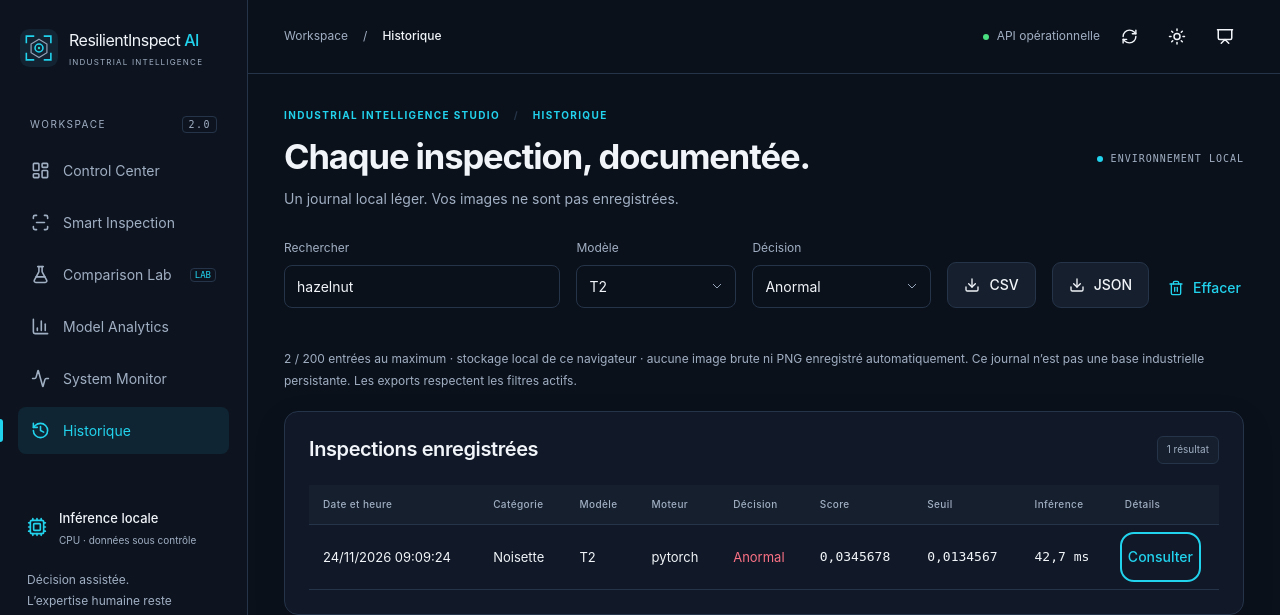
Test: history filters genuine local records, exports only the selection and confirms deletion
Earlier steps of the test are not shown.
What coordinates should you click on to do the following:
click the button "CSV"
I would click on:
 (992, 285)
Its box is [947, 262, 1036, 308].
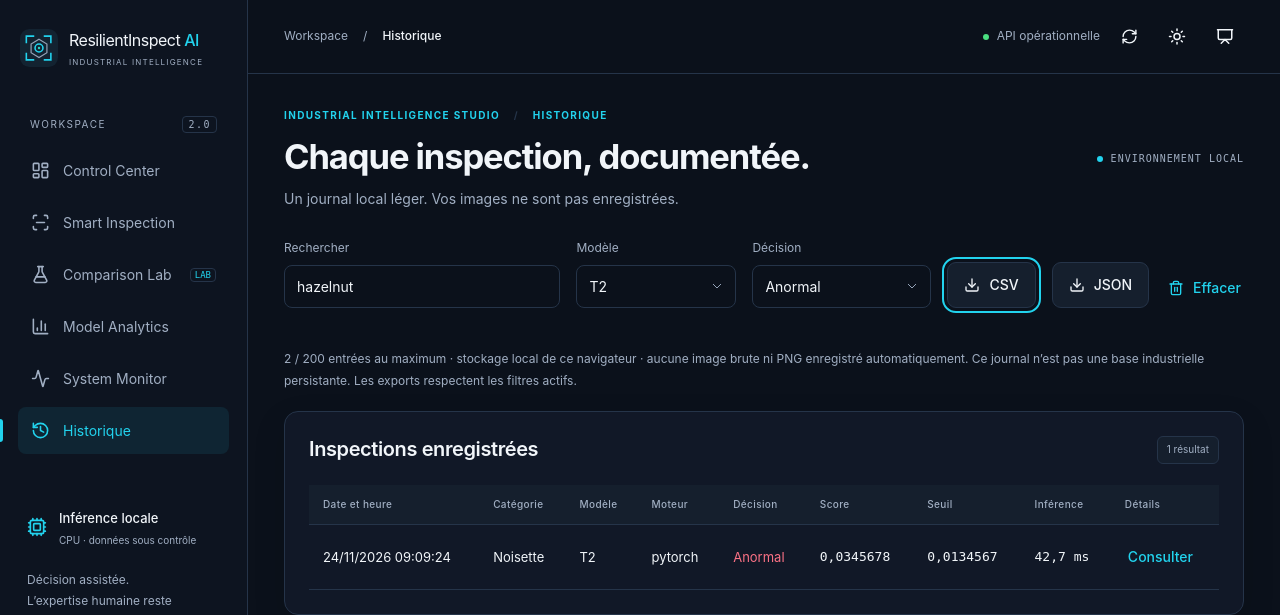
What coordinates should you click on to do the following:
click the button "JSON"
I would click on:
 (1100, 285)
Its box is [1052, 262, 1149, 308].
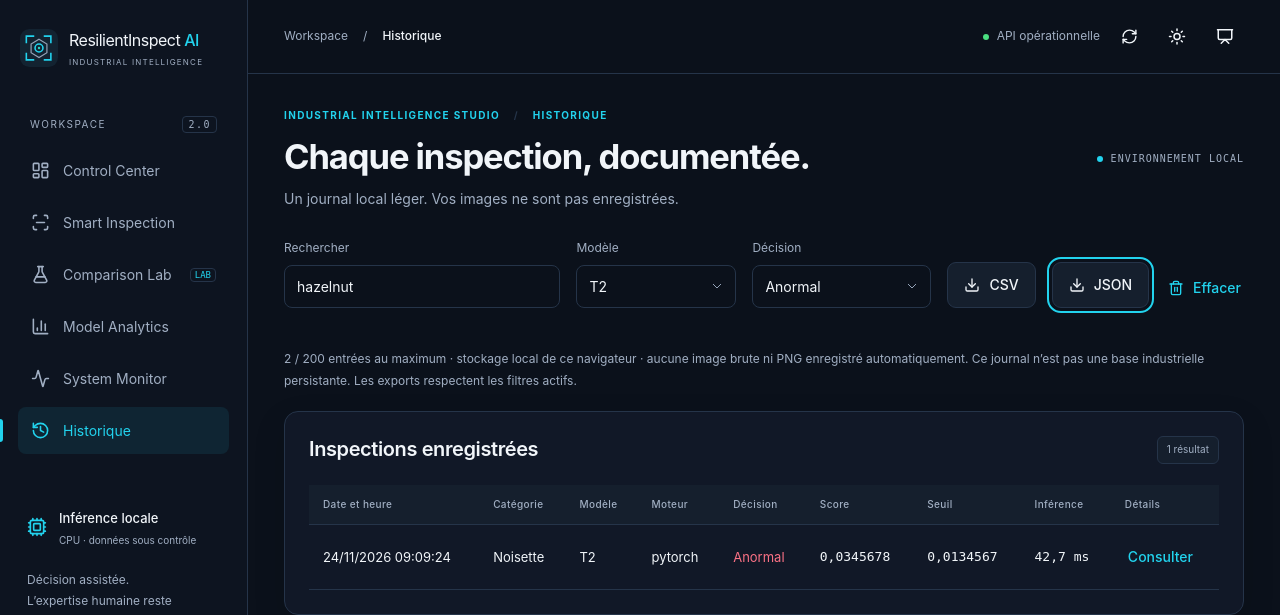
What coordinates should you click on to do the following:
click the button "Effacer"
I would click on:
 (1205, 288)
Its box is [1165, 268, 1244, 308].
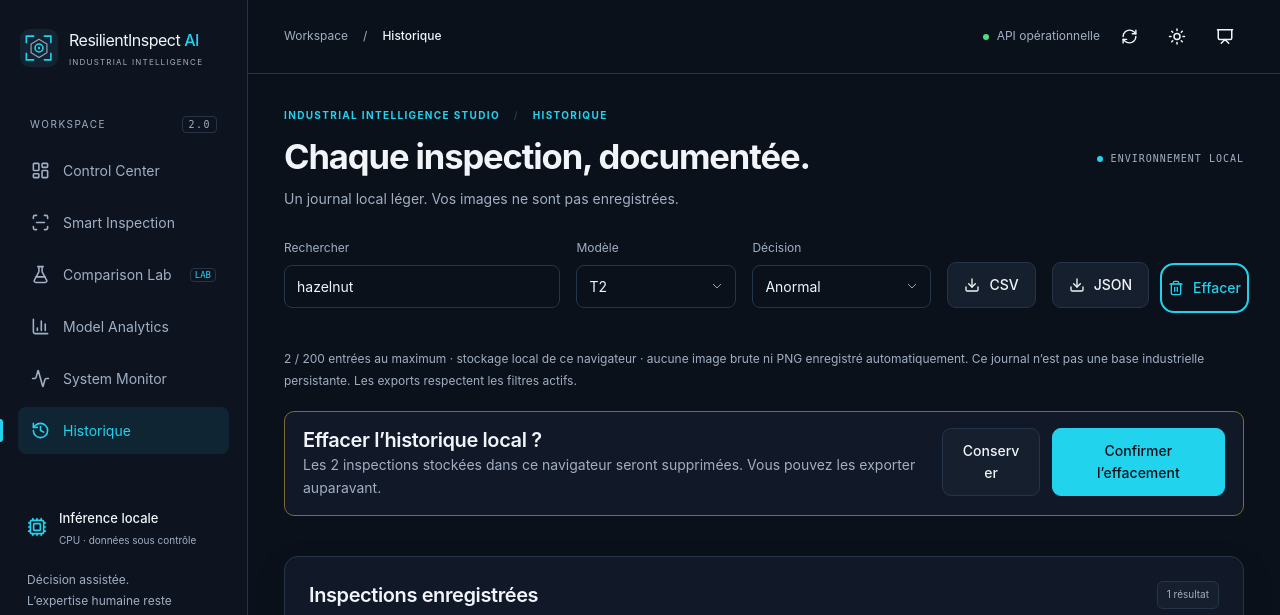
Result: the dialog is shown at [284, 411, 1244, 516]
What coordinates should you click on to do the following:
click the button "Conserver"
I would click on:
 (991, 462)
Its box is [942, 428, 1040, 496].
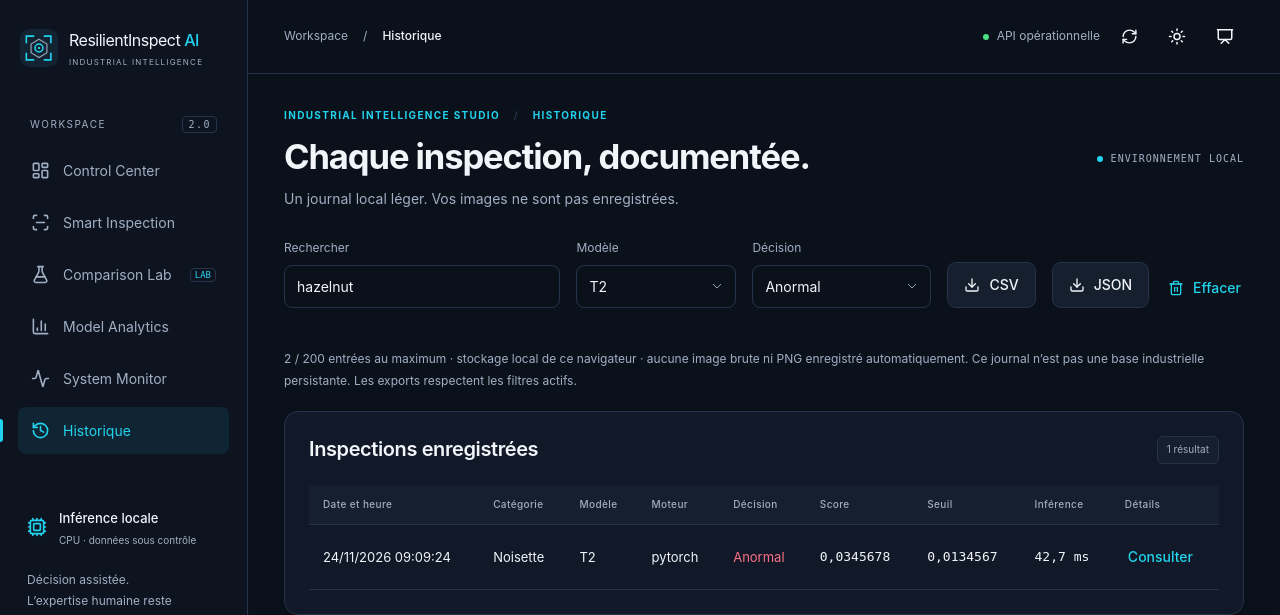
What coordinates should you click on to do the following:
click the button "Effacer"
I would click on:
 (1205, 288)
Its box is [1165, 268, 1244, 308].
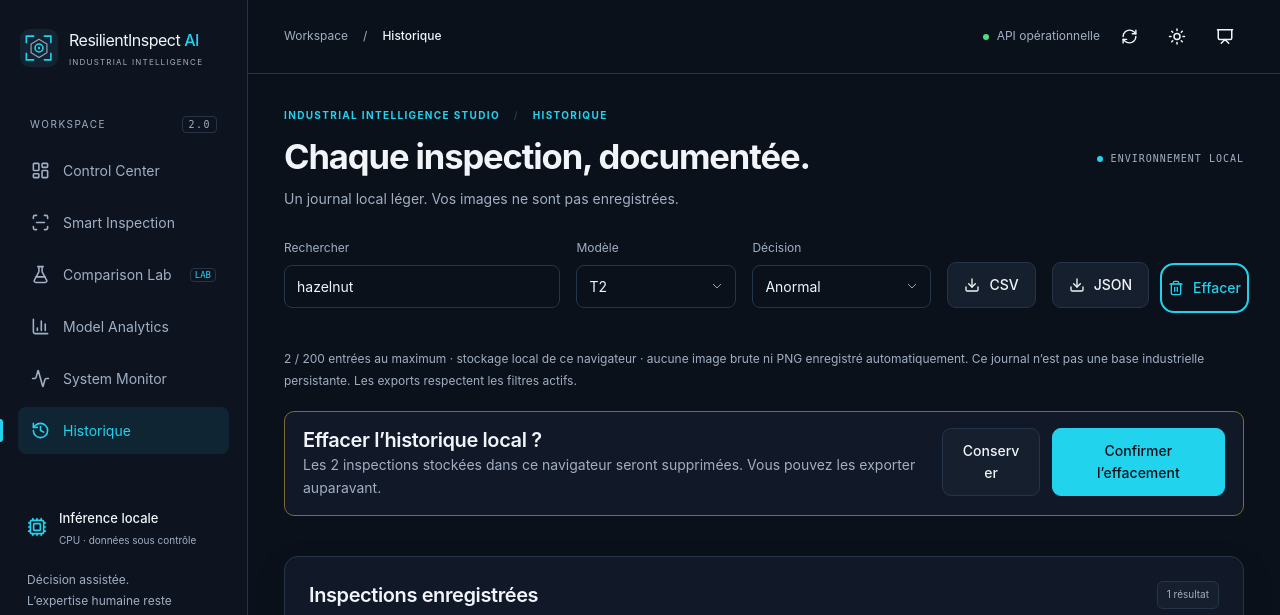
What coordinates should you click on to do the following:
click the button "Confirmer l’effacement"
I would click on:
 (1138, 462)
Its box is [1052, 428, 1225, 496].
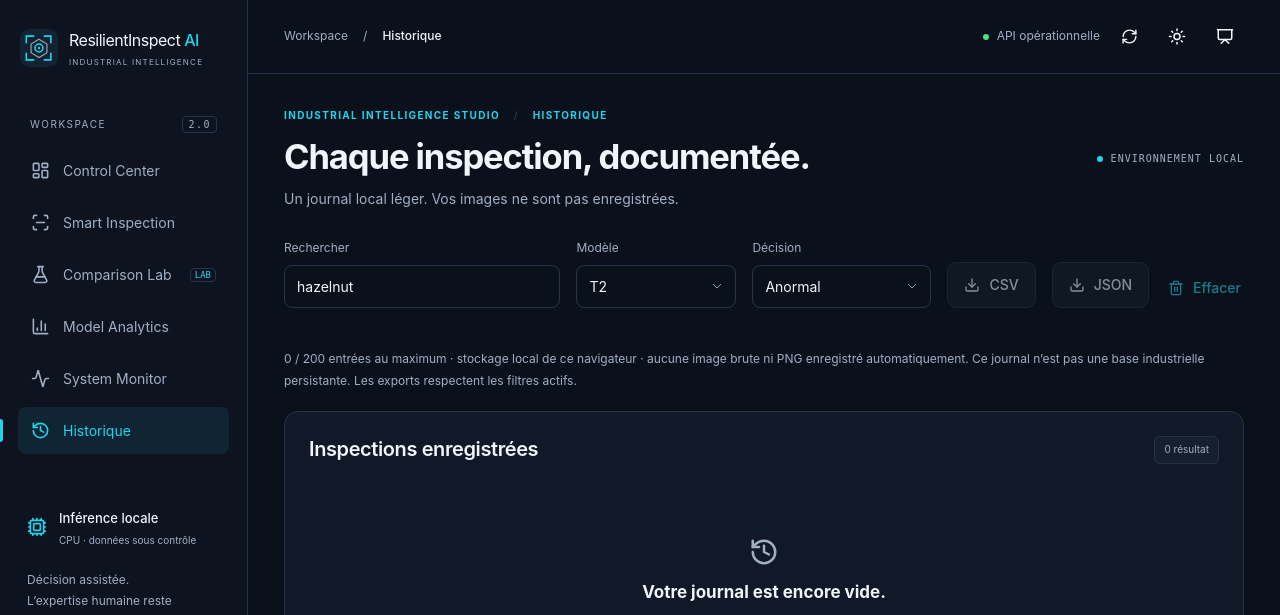
Result: the heading "Votre journal est encore vide." is shown at [642, 582, 886, 603]
Result: the button "CSV" is disabled at [947, 262, 1036, 308]
